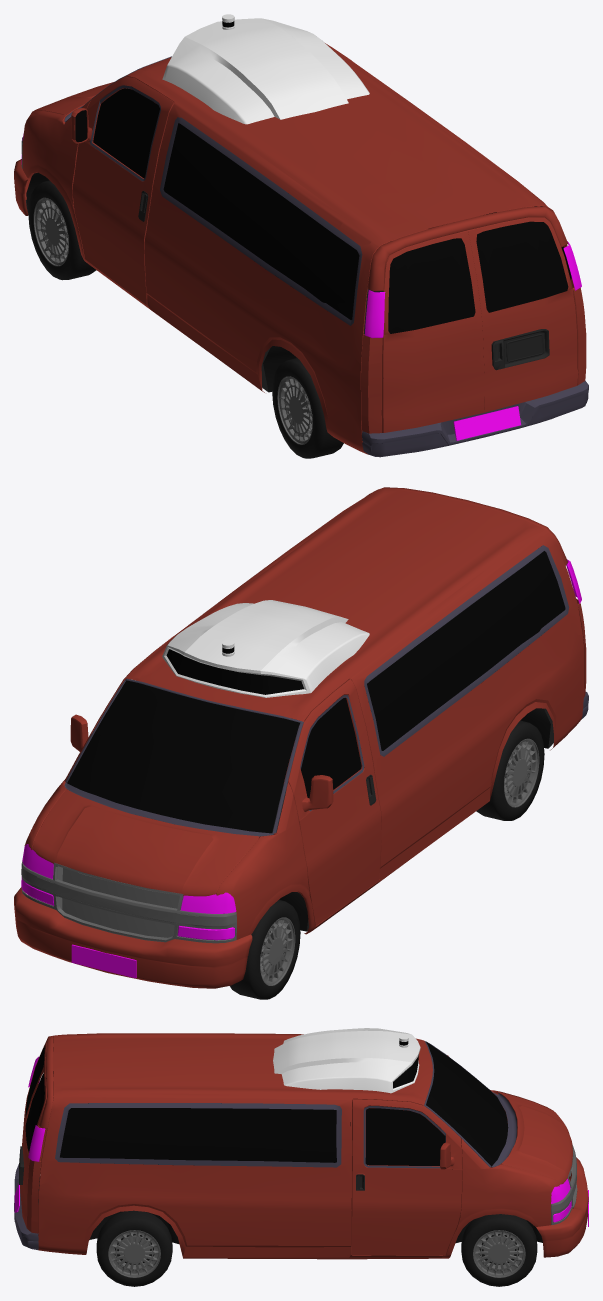
The model's file is maincar_minivan.glb.
3 renders of one model, top to bottom at view 1: azimuth 30°, elevation 25°; view 2: azimuth 150°, elevation 25°; view 3: azimuth 270°, elevation 25°, orthographic. The views are drawn at different scales.
Parts seen in each view (by area): view 1: minivan_car, radar, minivan_back, minivan_front_left; view 2: minivan_car, radar, minivan_front_left, minivan_back; view 3: minivan_car, radar, minivan_back, minivan_front_right.
Boxes of the visible parts, x1=… form: minivan_car: x1=14, y1=43, x2=588, y2=457; radar: x1=162, y1=14, x2=369, y2=124; minivan_back: x1=272, y1=358, x2=343, y2=458; minivan_front_left: x1=28, y1=180, x2=96, y2=280; minivan_car: x1=14, y1=487, x2=588, y2=988; radar: x1=162, y1=600, x2=369, y2=697; minivan_front_left: x1=230, y1=900, x2=300, y2=999; minivan_back: x1=476, y1=720, x2=544, y2=820; minivan_car: x1=14, y1=1033, x2=588, y2=1259; radar: x1=273, y1=1028, x2=420, y2=1093; minivan_back: x1=96, y1=1210, x2=172, y2=1286; minivan_front_right: x1=461, y1=1214, x2=537, y2=1286.
Size of the model in its own units: 2.36 by 2.43 by 6.03.
